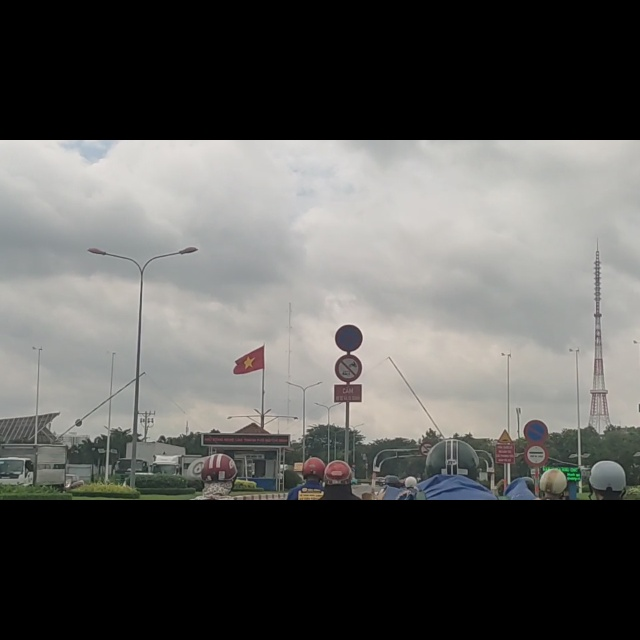bien_nguy_hiem: (335, 328, 363, 376), (335, 380, 362, 429), (523, 498, 549, 539), (525, 542, 550, 578), (497, 516, 513, 539), (420, 537, 433, 559)
